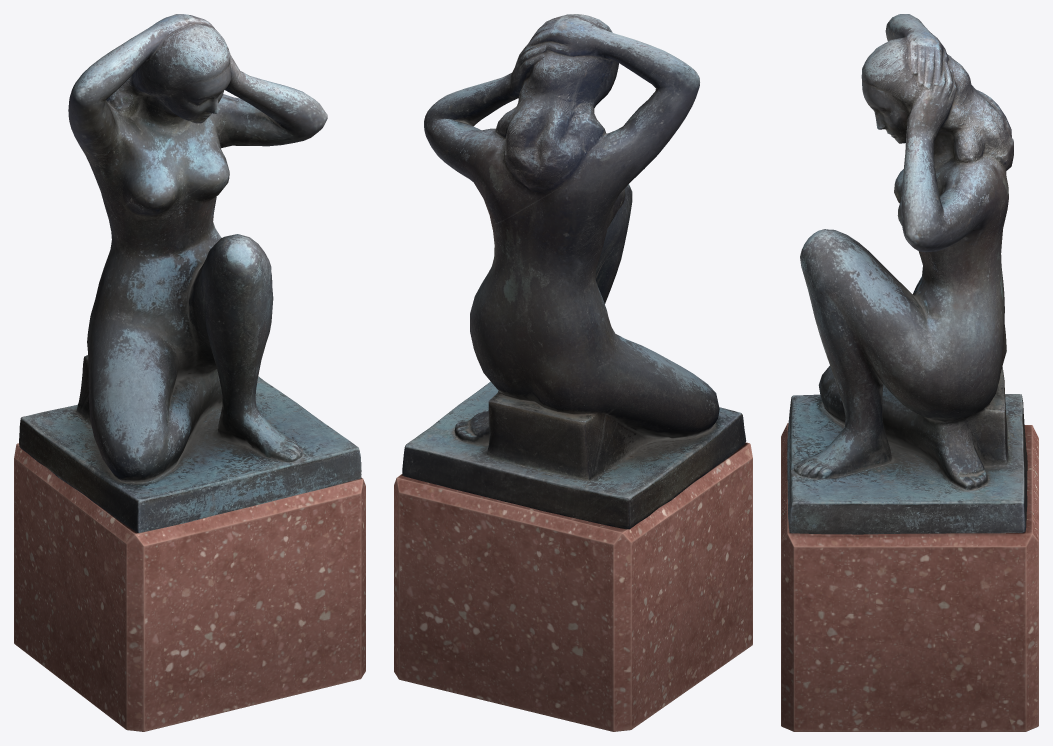
File: KneelingFigure.glb
3 renders of one model, left to right at view 1: azimuth 30°, elevation 25°; view 2: azimuth 150°, elevation 25°; view 3: azimuth 270°, elevation 25°, orthographic.
Parts seen in each view (by area): view 1: KneelingFigure_low, Base_low; view 2: KneelingFigure_low, Base_low; view 3: KneelingFigure_low, Base_low.
Part boxes in pixels (x1,y1,x2,y2): KneelingFigure_low: [19, 14, 361, 532]; Base_low: [14, 443, 365, 731]; KneelingFigure_low: [402, 14, 746, 529]; Base_low: [394, 442, 752, 731]; KneelingFigure_low: [787, 14, 1027, 534]; Base_low: [781, 423, 1038, 731].
Size of the model in its own units: 0.6345 by 1.48 by 0.5448.
1 material, 1 textured.
